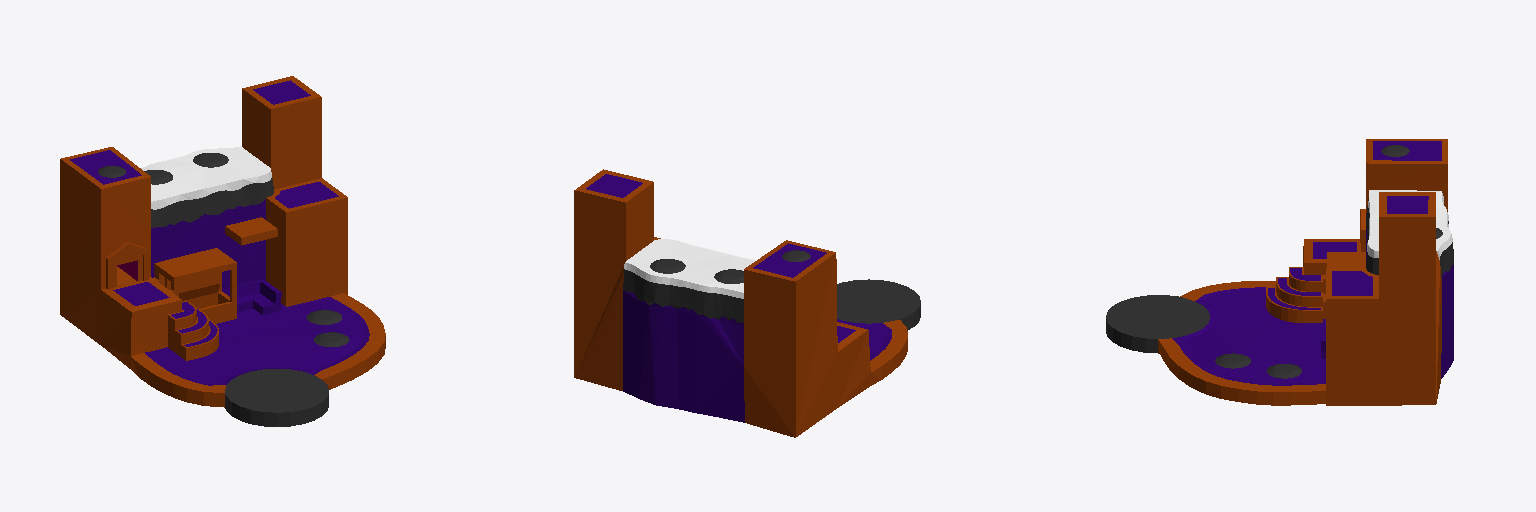
Rendered from HubworldModelFinal.obj.
3 renders of one model, left to right at view 1: azimuth 30°, elevation 25°; view 2: azimuth 150°, elevation 25°; view 3: azimuth 270°, elevation 25°, orthographic.
Parts seen in each view (by area): view 1: HubworldPlanet_Collision_Circle.000; view 2: HubworldPlanet_Collision_Circle.000; view 3: HubworldPlanet_Collision_Circle.000.
Boxes of the visible parts, box(x1,y1,x2,y2) form: HubworldPlanet_Collision_Circle.000: box(60, 76, 385, 426); HubworldPlanet_Collision_Circle.000: box(574, 169, 920, 437); HubworldPlanet_Collision_Circle.000: box(1106, 139, 1453, 405).
Size of the model in its own units: 3896 by 3061 by 5096.